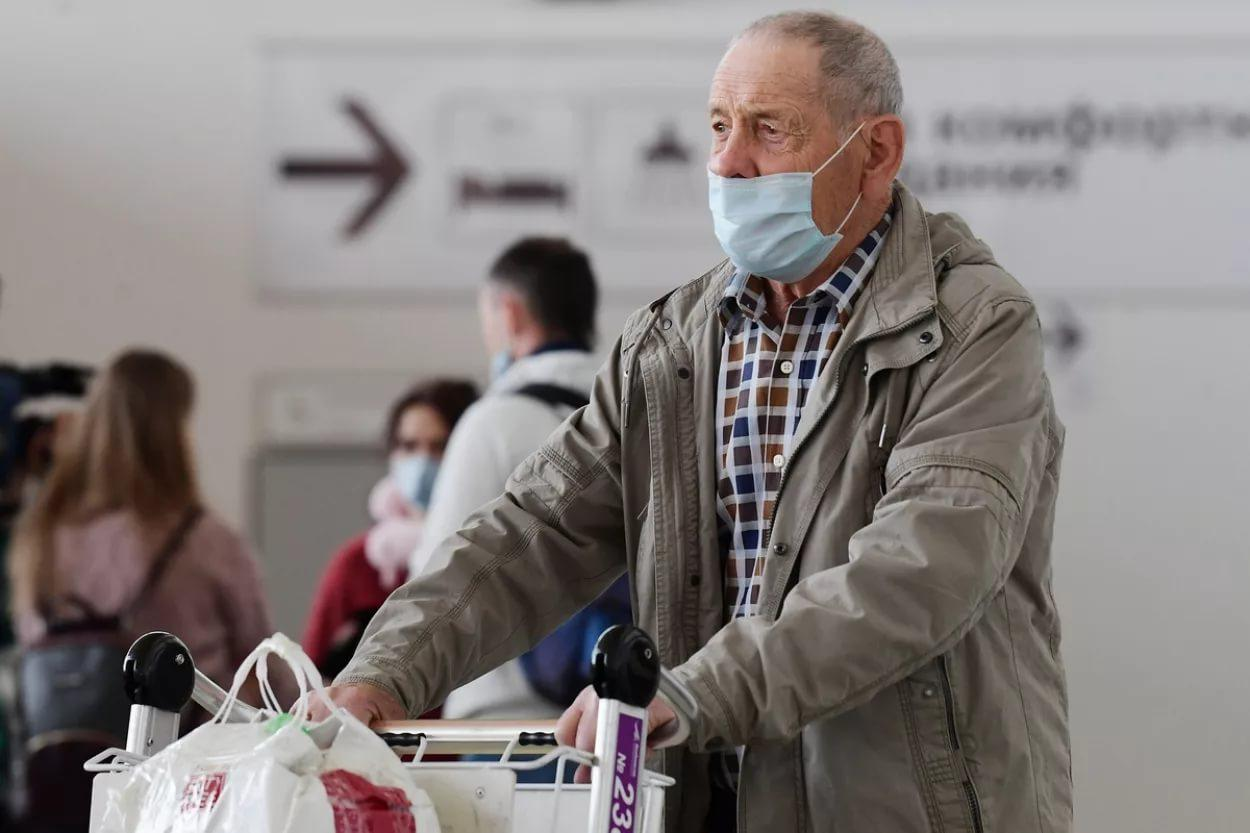mask: (386, 390, 470, 503)
poor: (693, 45, 851, 285)
